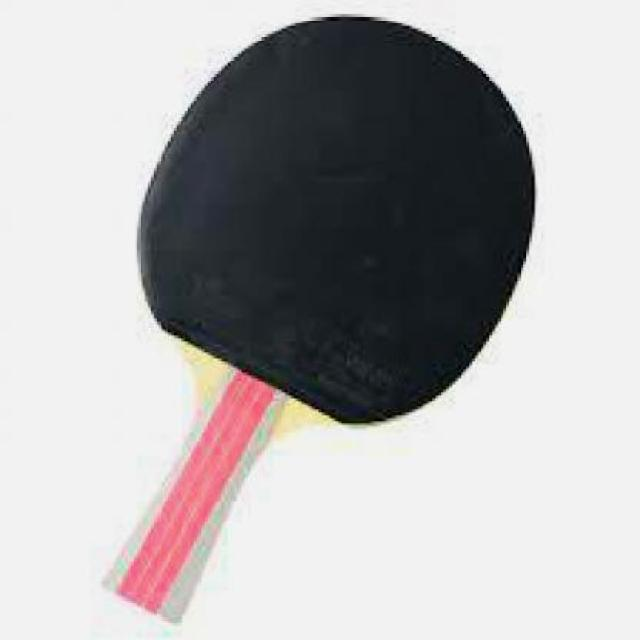table_tennis_racket: (136, 11, 542, 429)
